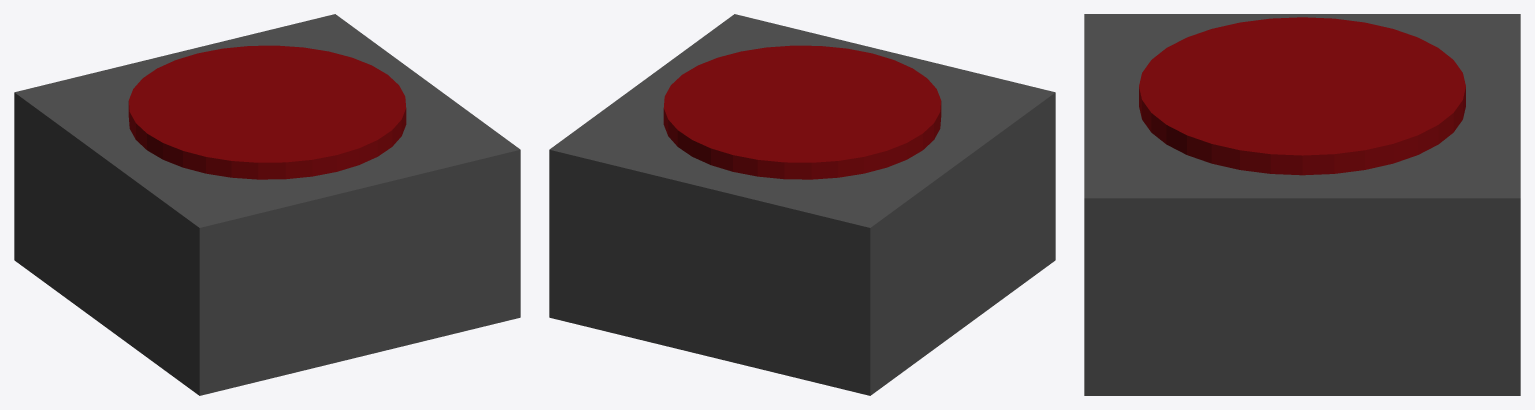
File: Button.fbx
The picture shows the model from 3 angles, left to right: view 1: azimuth 30°, elevation 25°; view 2: azimuth 150°, elevation 25°; view 3: azimuth 270°, elevation 25°; orthographic projection. The views are drawn at different scales.
Visible parts, largest first — view 1: Cube, Cylinder; view 2: Cube, Cylinder; view 3: Cube, Cylinder.
Boxes of the visible parts, x1=… form: Cube: x1=14, y1=14, x2=520, y2=395; Cylinder: x1=128, y1=45, x2=406, y2=179; Cube: x1=549, y1=14, x2=1055, y2=395; Cylinder: x1=663, y1=45, x2=941, y2=179; Cube: x1=1084, y1=14, x2=1520, y2=395; Cylinder: x1=1139, y1=17, x2=1465, y2=175.
Size of the model in its own units: 40 by 22 by 40.
